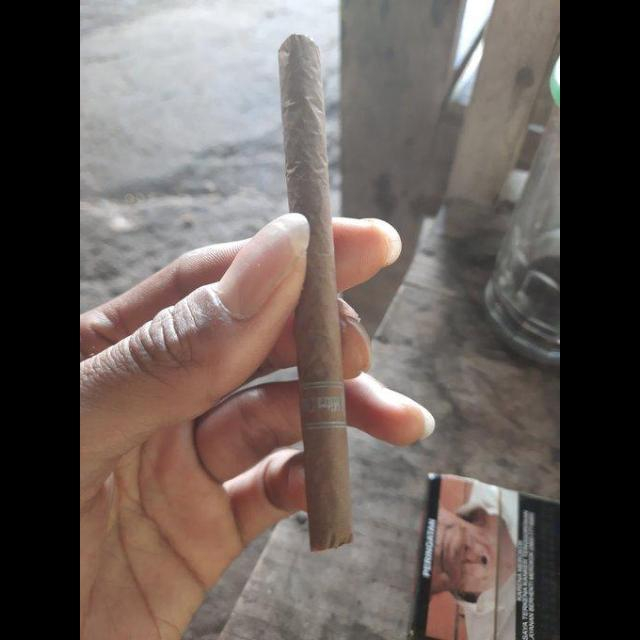rokok: (268, 28, 364, 554)
